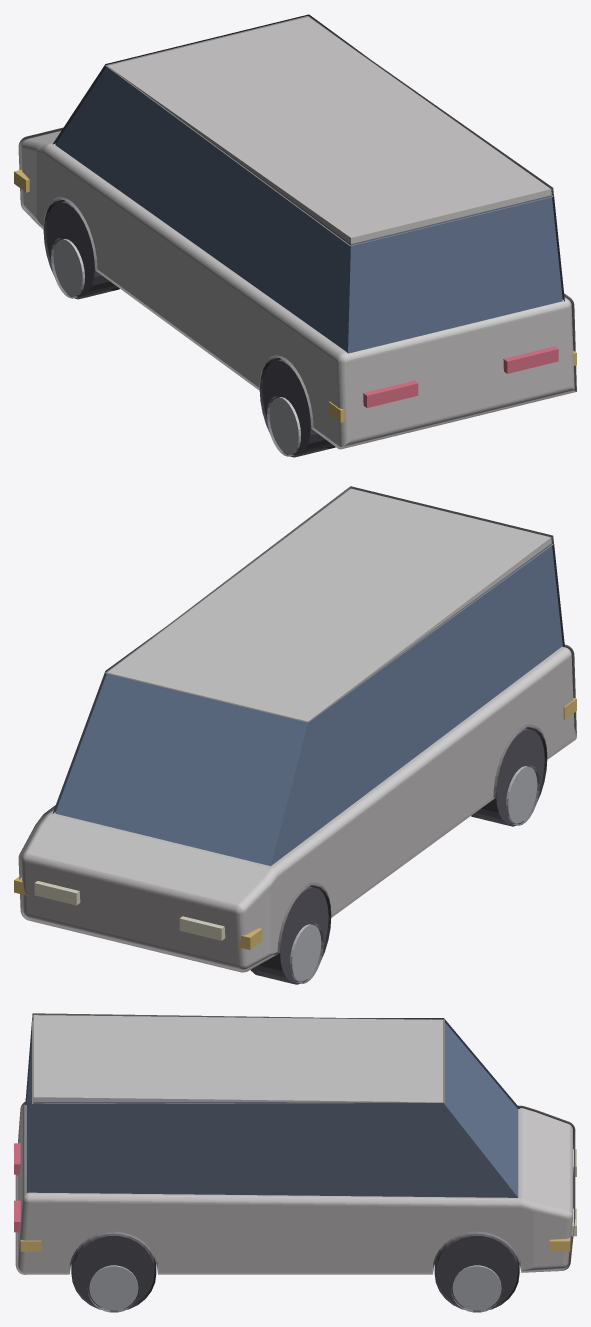
The model's file is traffic_van_2.glb.
3 views of the same model, one above another, from view 1: azimuth 30°, elevation 25°; view 2: azimuth 150°, elevation 25°; view 3: azimuth 270°, elevation 25° (orthographic). The views are drawn at different scales.
Parts seen in each view (by area): view 1: car, blink; view 2: car, blink; view 3: car, blink.
Boxes of the visible parts, bbox=[...] form: car: bbox=[18, 14, 576, 457]; blink: bbox=[14, 169, 576, 422]; car: bbox=[18, 486, 576, 984]; blink: bbox=[14, 698, 576, 949]; car: bbox=[14, 1013, 576, 1312]; blink: bbox=[20, 1238, 570, 1251].
Size of the model in its own units: 2.07 by 2.02 by 4.96.
